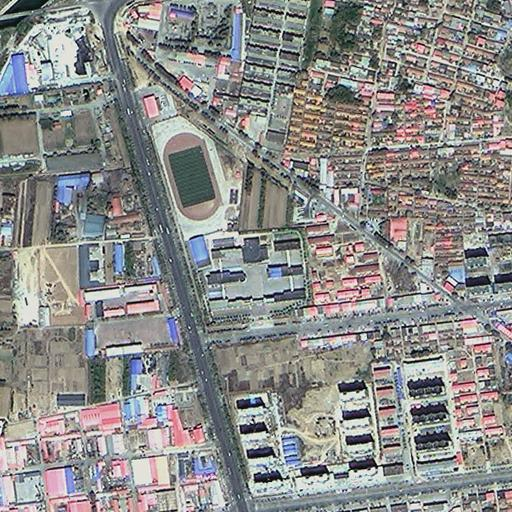school: (160, 129, 310, 314)
